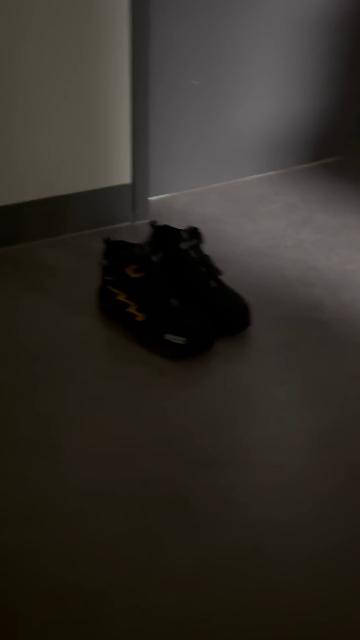shoe_worn: (96, 238, 221, 364), (138, 221, 254, 342)
